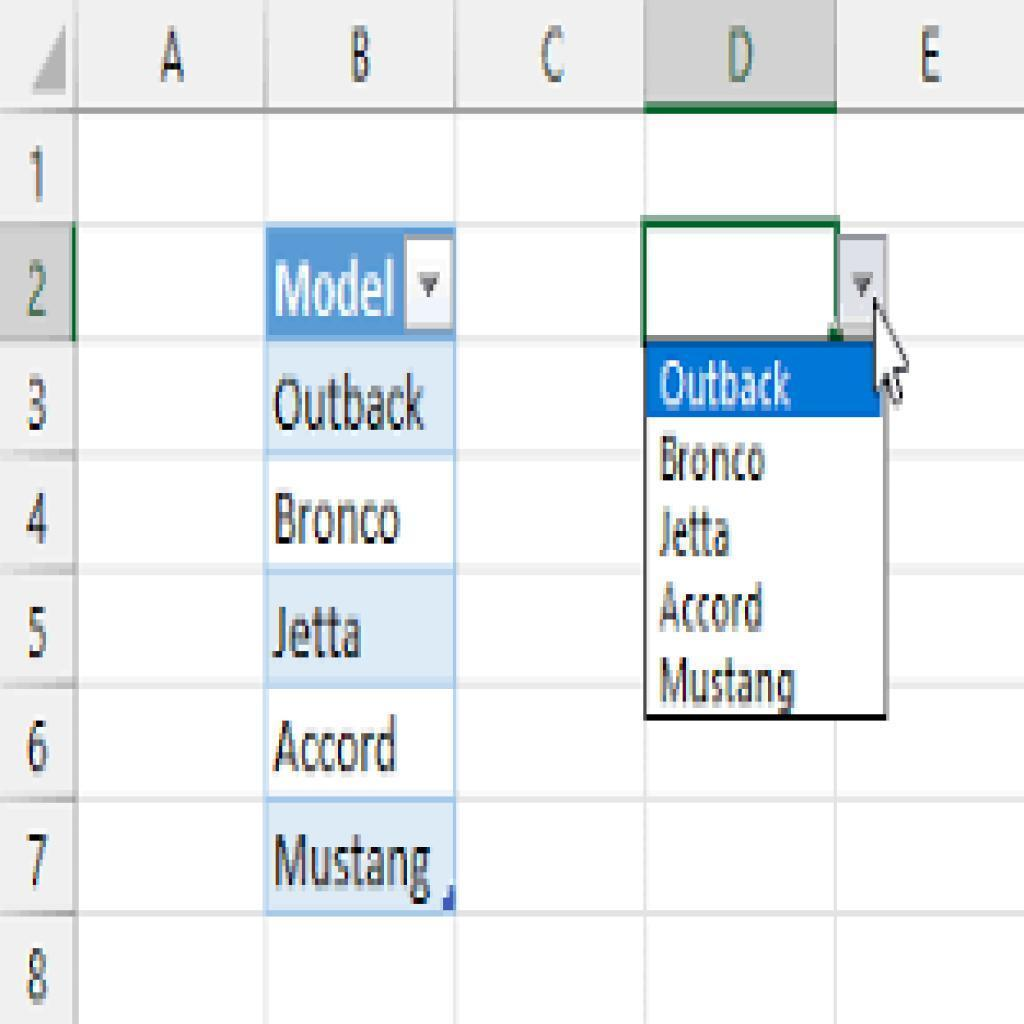button: (265, 340, 455, 451), (265, 577, 458, 685), (265, 692, 455, 801), (267, 457, 453, 568), (269, 806, 455, 916)
dropdown: (267, 225, 454, 339)
table: (3, 1, 1024, 1024)
